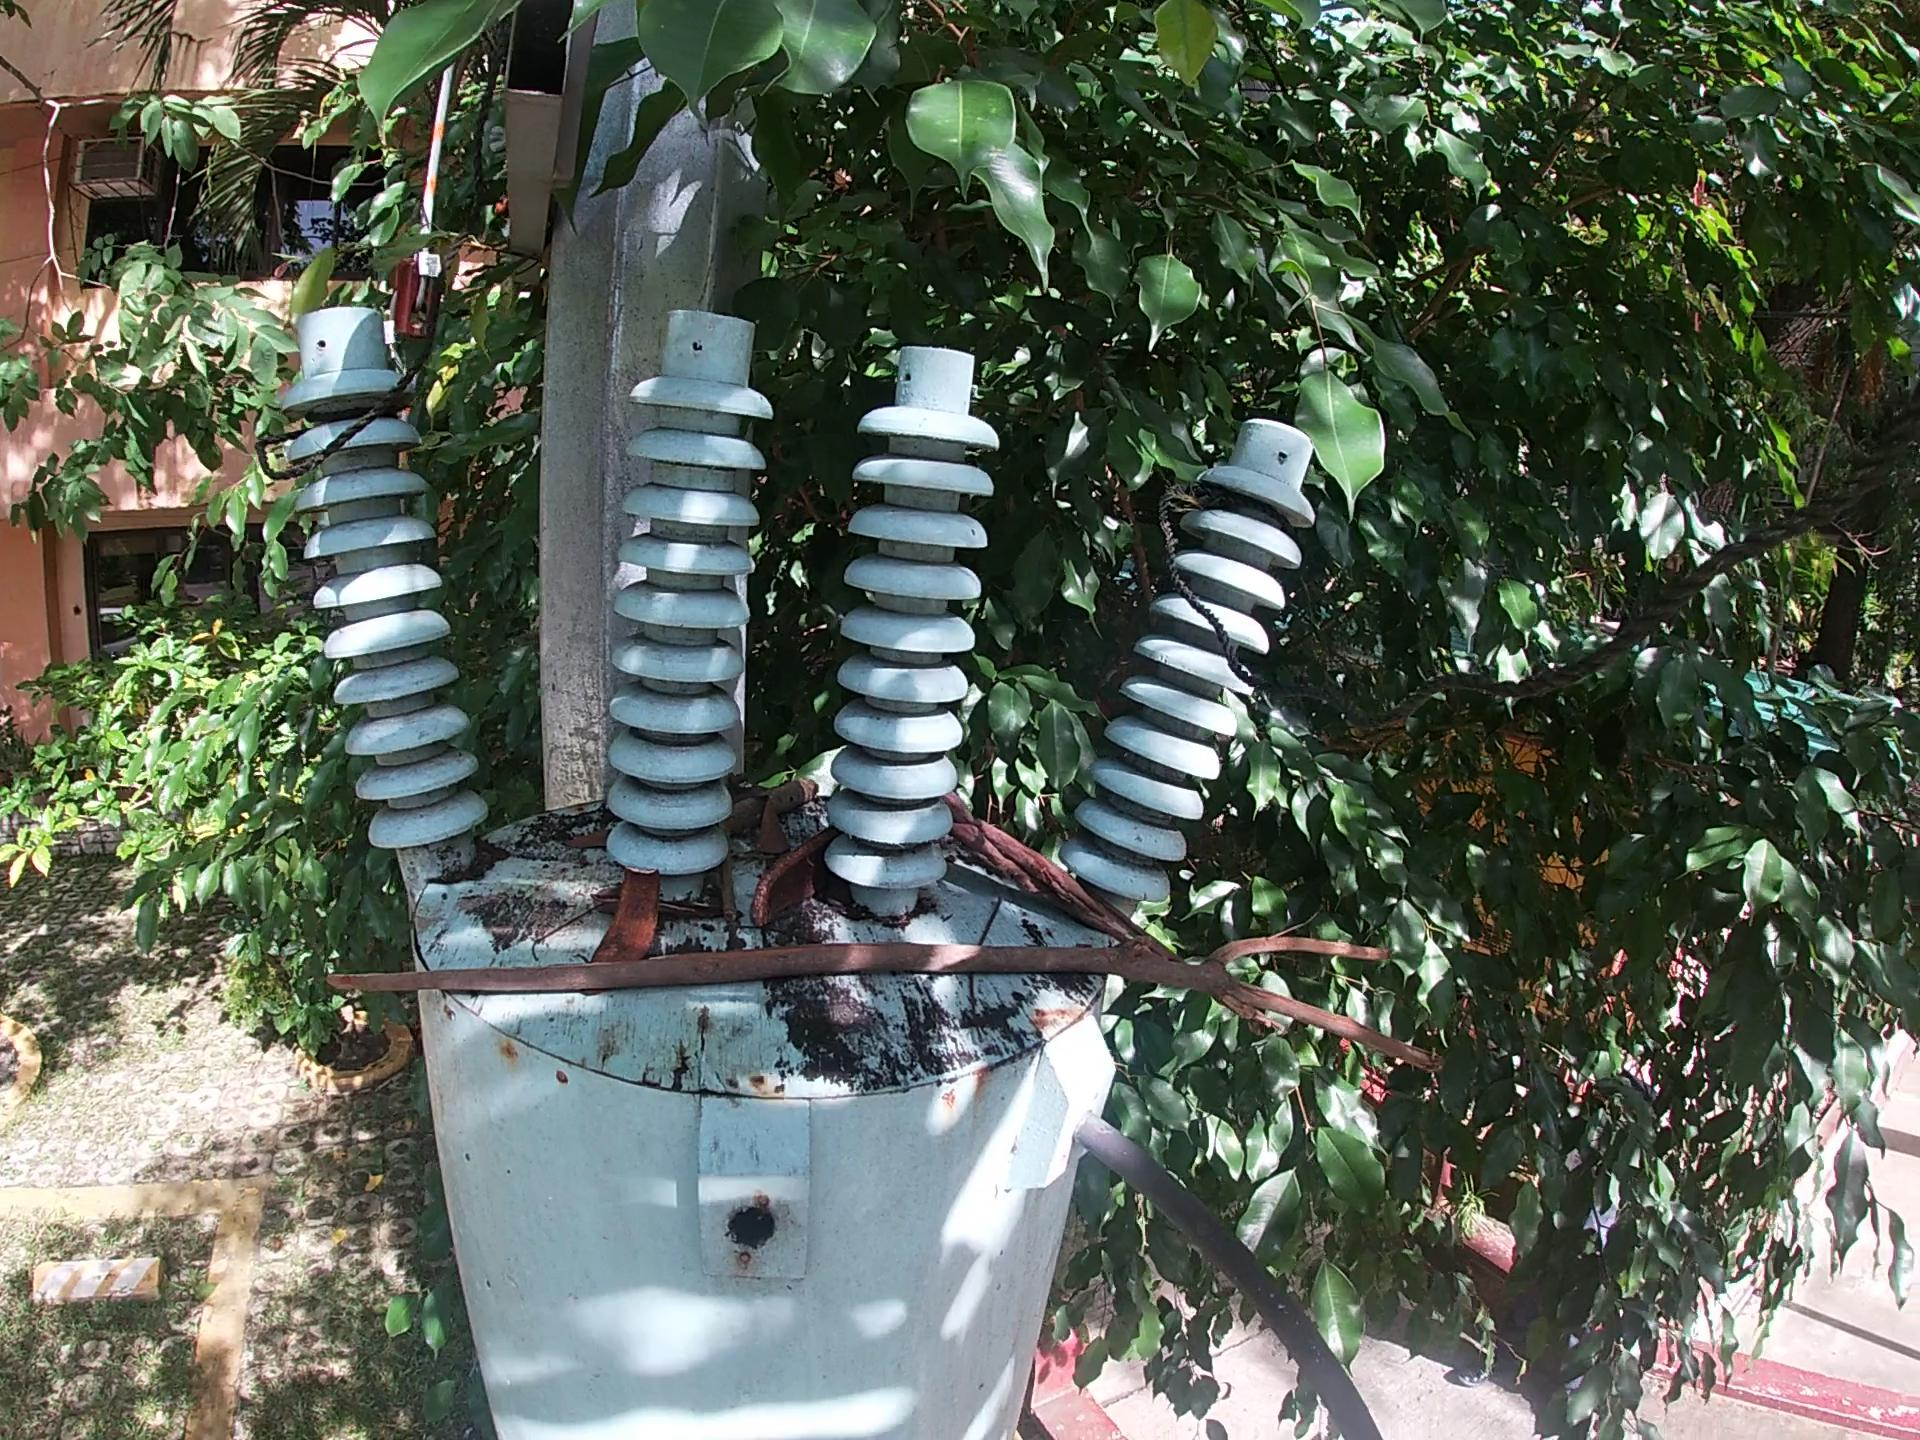leaf: (750, 796, 794, 868), (565, 827, 614, 858), (588, 879, 618, 926)
mahogany fruit: (750, 826, 841, 929), (585, 861, 667, 967)
tree branch: (321, 917, 1451, 1088), (940, 785, 1267, 1033), (726, 768, 819, 836), (715, 865, 742, 932)
